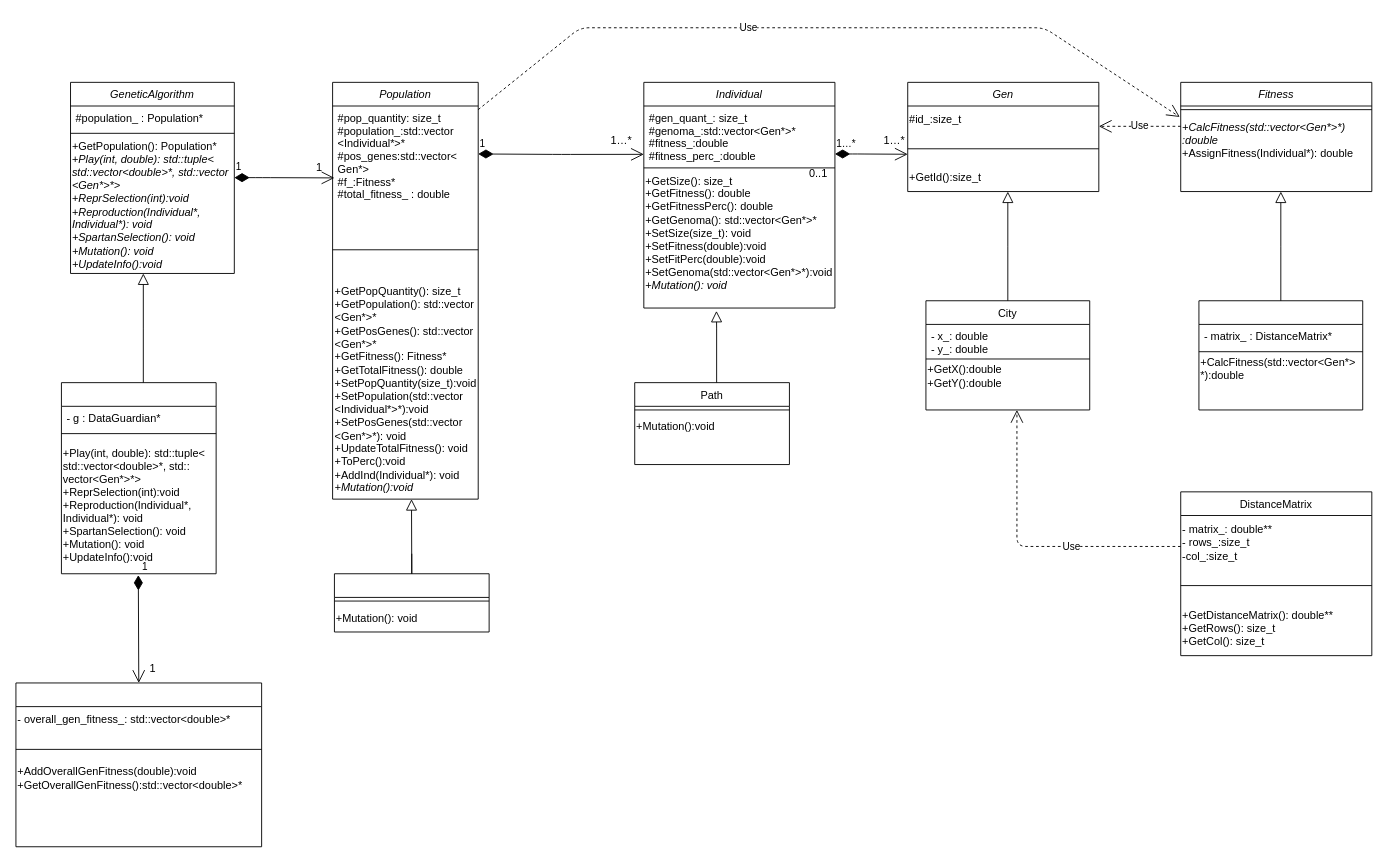
This 1388x863 diagram has some shape labels left out. The shapes that lost their labels are listed below. From the top down, each one's box as (x1, y1, x2, y2) in pixels, then its label:
(1198, 300, 1363, 410): TravelerFitness
(61, 382, 216, 574): TravelerGeneticAlgorithm
(334, 573, 489, 632): TravelerPopulation
(15, 682, 262, 847): DataGuardian
